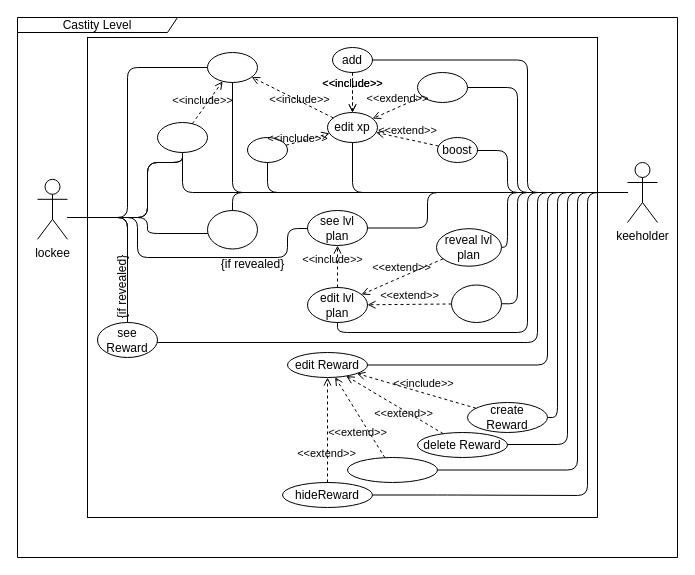
Image size: 695x575. Some labels were removed from this diagram. The shapes that lost their labels are listed below. From the top down, each one's centre as x and y in pixels, then its label:
At [232,67]: "see xp".
At [442,87]: "freeze".
At [182,137]: "see lvl".
At [267,149]: "delete".
At [232,229]: "see history".
At [476,303]: "hide lvl plan".
At [392,469]: "reveal Reward".
